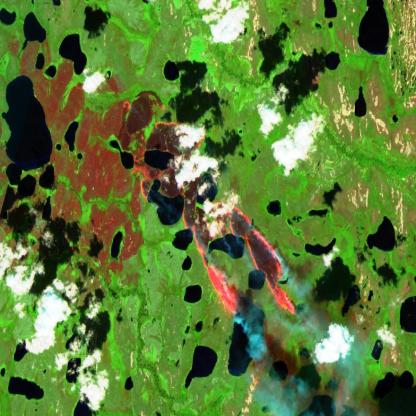fire: (113, 88, 303, 329)
